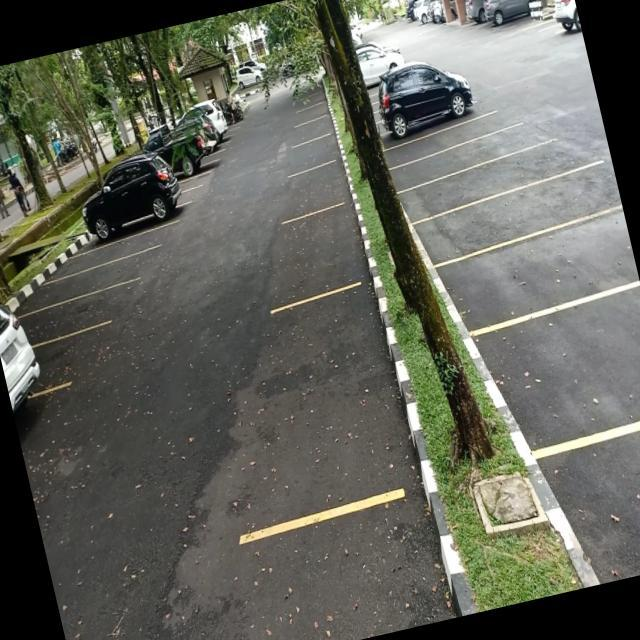empty: (199, 283, 418, 536), (491, 286, 640, 457), (441, 212, 634, 330), (416, 172, 607, 266), (403, 144, 573, 218), (268, 202, 370, 302), (391, 130, 534, 191), (35, 252, 160, 307), (62, 224, 179, 272), (386, 117, 504, 163), (20, 293, 111, 344), (287, 162, 350, 216), (292, 135, 339, 172), (291, 115, 332, 145)
occupied: (77, 183, 189, 247), (376, 82, 481, 147)
